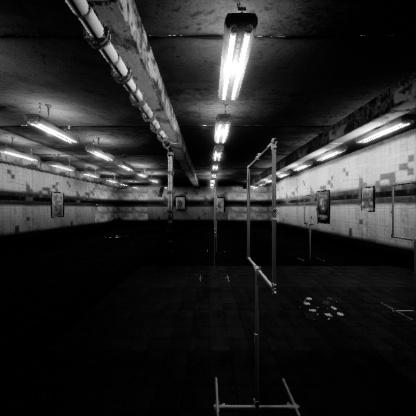gate: (251, 117, 283, 280), (392, 168, 416, 239), (304, 189, 319, 222), (215, 182, 217, 228), (216, 192, 217, 220)
